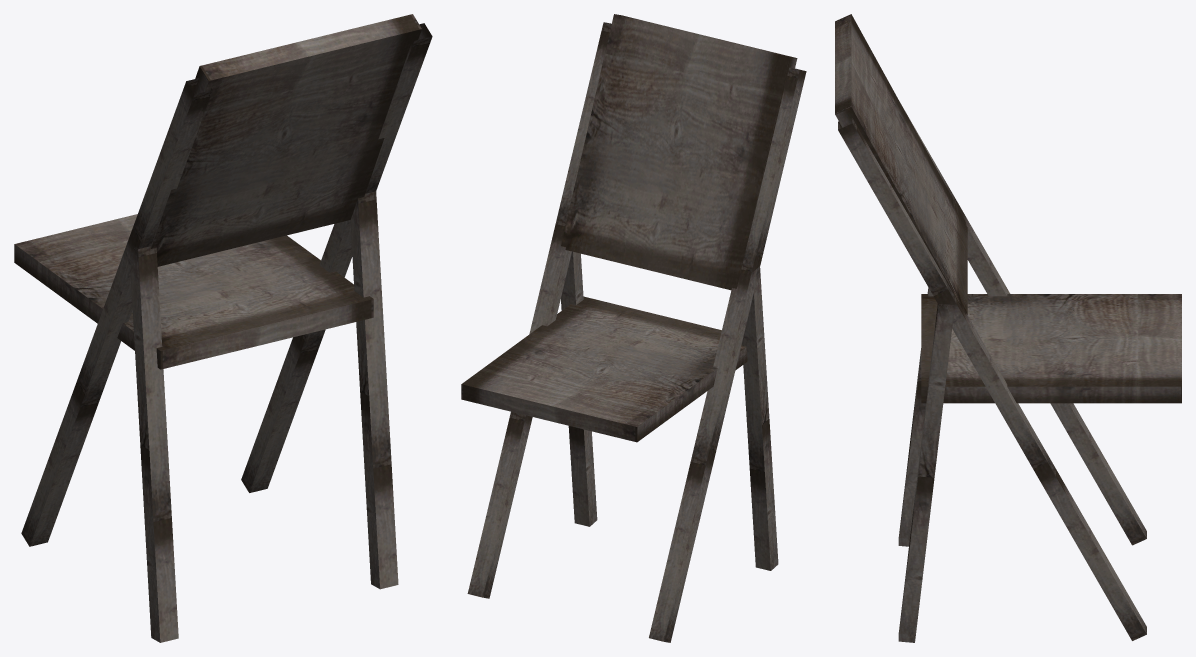
File: Chair01.glb
The picture shows the model from 3 angles, left to right: view 1: azimuth 30°, elevation 25°; view 2: azimuth 150°, elevation 25°; view 3: azimuth 270°, elevation 25°; orthographic projection. The views are drawn at different scales.
Visible parts, largest first — view 1: _Chair01; view 2: _Chair01; view 3: _Chair01.
Boxes of the visible parts, bbox=[...] form: _Chair01: bbox=[14, 14, 432, 642]; _Chair01: bbox=[461, 14, 806, 642]; _Chair01: bbox=[835, 14, 1181, 642].
Size of the model in its own units: 0.5348 by 1.28 by 0.7562.
1 material, 1 textured.
